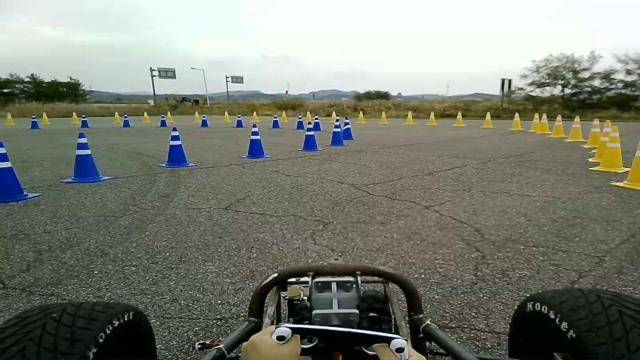blue cone: (59, 132, 114, 184), (0, 141, 42, 203), (158, 126, 197, 168), (239, 123, 273, 159), (294, 127, 324, 152), (324, 128, 350, 146), (342, 116, 356, 140)
yellow cone: (588, 126, 632, 176), (609, 142, 639, 190), (582, 118, 601, 148), (565, 115, 586, 142), (549, 114, 566, 138), (535, 113, 551, 134), (508, 112, 524, 130), (480, 112, 495, 128), (528, 112, 540, 132), (452, 111, 466, 126), (424, 111, 438, 125), (404, 110, 414, 124)
